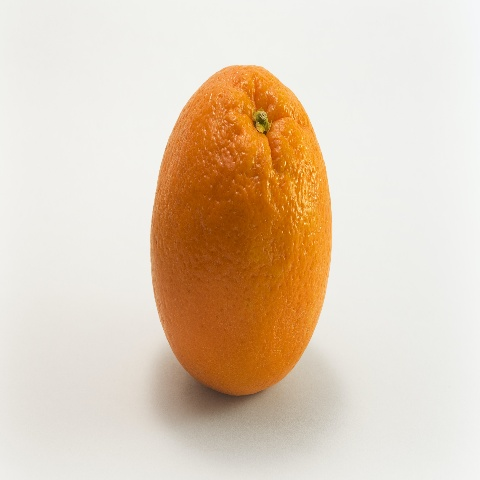orange: (103, 25, 362, 436)
